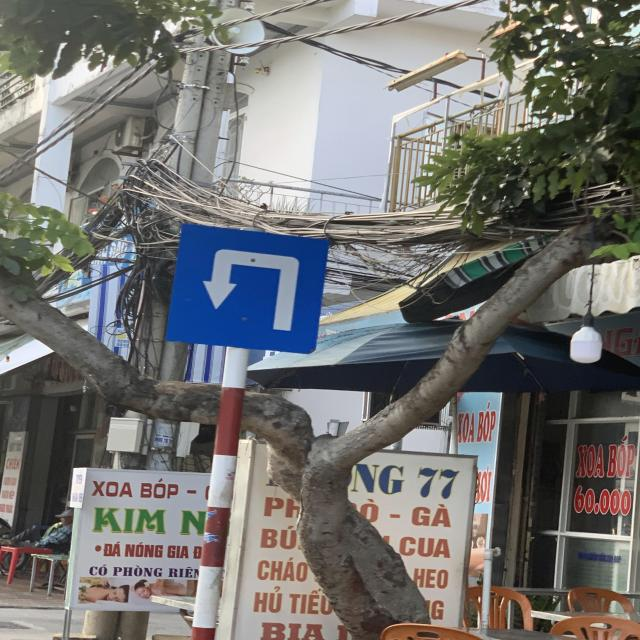Den_Giao_Thong: (167, 223, 329, 351)
